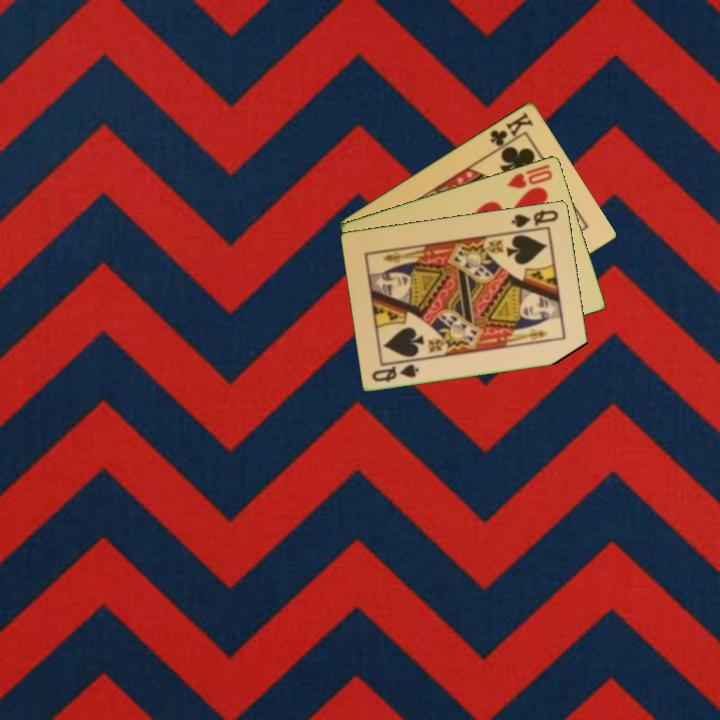10h: (503, 166, 556, 191)
Kc: (486, 108, 536, 153)
Qs: (508, 206, 561, 230), (369, 360, 422, 384)
